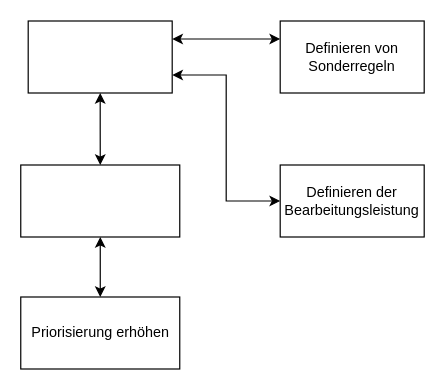
This 446x390 diagram has some shape labels left out. Each missing label, with the centre of its shape:
Bearbeiten/Beantworten einer E-Mail: (100,200)
Priorisierte Liste der E-Mails: (99,56)
